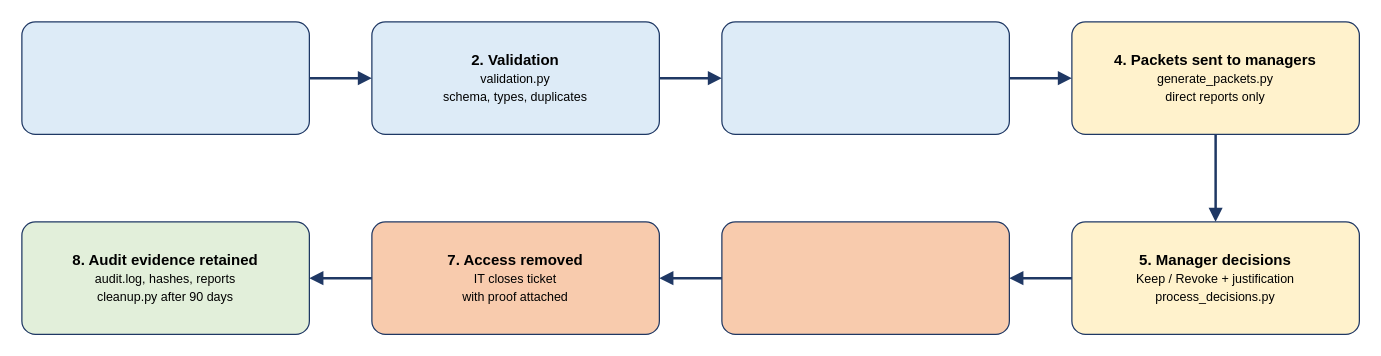
Image size: 1381x356. Some labels were removed from this diagram. The shapes that lost their labels are listed below. From the top down, each one's box as (x1, y1, x2, y2) in pixels, then its label:
(21, 21, 309, 134): 1. Data export HR roster + POS, Payroll, AP SHA-256 hashed
(721, 21, 1009, 134): 3. Risk analysis analyzer.py 5 checks -> PCI-DSS / NIST
(721, 221, 1009, 334): 6. Remediation tickets create_tickets.py Jira, no names
